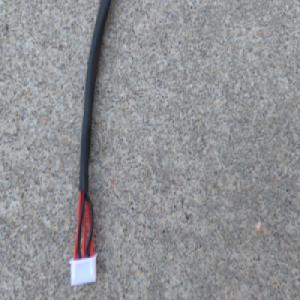Wire: (67, 0, 115, 290)
